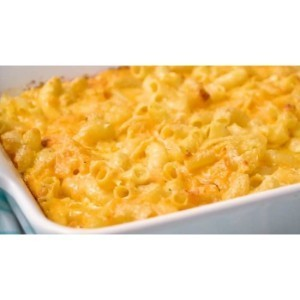cheese_brain food: (72, 92, 240, 194)
